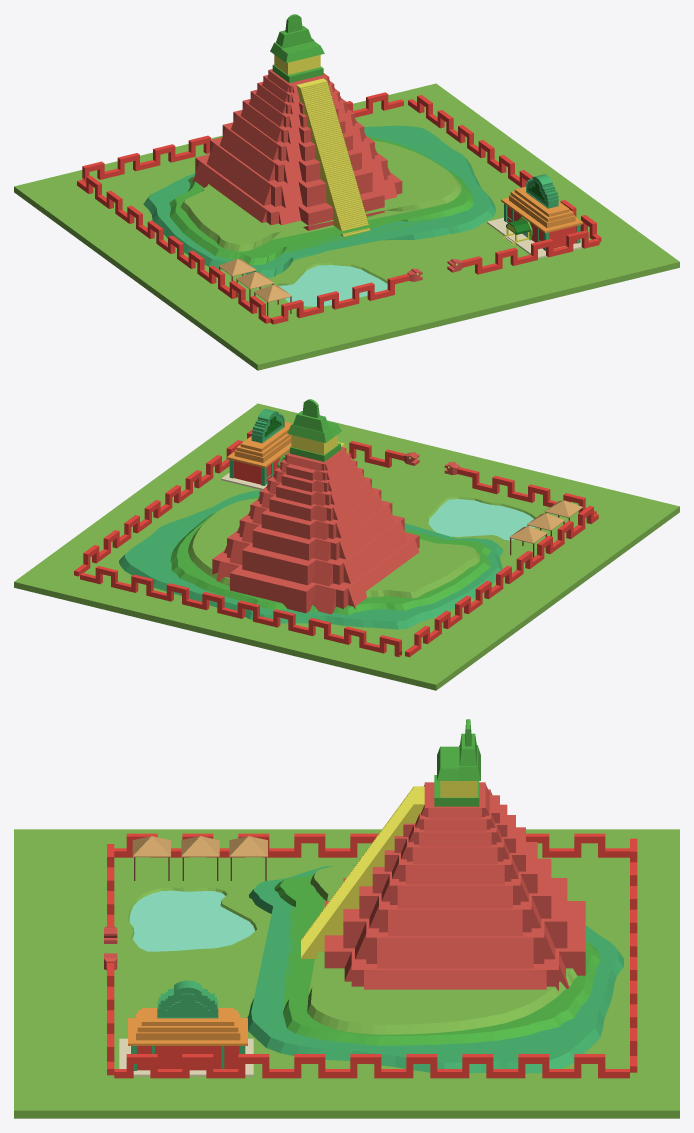
File: D10_Milestone.fbx
The picture shows the model from 3 angles, top to bottom: view 1: azimuth 30°, elevation 25°; view 2: azimuth 150°, elevation 25°; view 3: azimuth 270°, elevation 25°; orthographic projection. The views are drawn at different scales.
Parts seen in each view (by area): view 1: Plane.1016, Cube.525, GP_Layer, GP_Layer.002, Plane.1017, GP_Layer.001, Cube.530, Cube.526, Plane.1018, Plane.1752, Plane.1021, Plane.1020 (+4 smaller); view 2: Plane.1016, Cube.525, Cube.526, GP_Layer, GP_Layer.002, GP_Layer.001, Plane.1020, Cube.530, Plane.1018, Plane.1752, Plane.1021, Plane.1019 (+5 smaller); view 3: Plane.1016, Cube.525, GP_Layer, GP_Layer.002, GP_Layer.001, Cube.526, Cube.530, Plane.1021, Plane.1752, Plane.1017, Plane.1018, Plane.1020 (+7 smaller).
Part boxes in pixels (x1=…): Plane.1016: x1=14, y1=83, x2=679, y2=370; Cube.525: x1=192, y1=69, x2=402, y2=231; GP_Layer: x1=143, y1=125, x2=495, y2=277; GP_Layer.002: x1=180, y1=140, x2=461, y2=251; Plane.1017: x1=296, y1=78, x2=370, y2=236; GP_Layer.001: x1=169, y1=136, x2=474, y2=265; Cube.530: x1=487, y1=174, x2=583, y2=258; Cube.526: x1=297, y1=97, x2=384, y2=230; Plane.1018: x1=77, y1=175, x2=270, y2=323; Plane.1752: x1=278, y1=265, x2=387, y2=306; Plane.1021: x1=408, y1=95, x2=601, y2=242; Plane.1020: x1=82, y1=92, x2=403, y2=182; Plane.1016: x1=14, y1=403, x2=679, y2=690; Cube.525: x1=212, y1=446, x2=419, y2=614; Cube.526: x1=230, y1=464, x2=316, y2=613; GP_Layer: x1=119, y1=490, x2=503, y2=629; GP_Layer.002: x1=188, y1=498, x2=479, y2=598; GP_Layer.001: x1=170, y1=496, x2=491, y2=615; Plane.1020: x1=80, y1=566, x2=401, y2=657; Cube.530: x1=221, y1=409, x2=292, y2=489; Plane.1018: x1=405, y1=506, x2=598, y2=657; Plane.1752: x1=428, y1=499, x2=534, y2=540; Plane.1021: x1=74, y1=429, x2=252, y2=576; Plane.1019: x1=457, y1=467, x2=596, y2=513; Plane.1016: x1=14, y1=829, x2=679, y2=1118; Cube.525: x1=344, y1=782, x2=568, y2=990; GP_Layer: x1=247, y1=865, x2=623, y2=1073; GP_Layer.002: x1=307, y1=865, x2=577, y2=1034; GP_Layer.001: x1=274, y1=873, x2=600, y2=1045; Cube.526: x1=324, y1=795, x2=585, y2=975; Cube.530: x1=119, y1=980, x2=253, y2=1076; Plane.1021: x1=114, y1=1054, x2=629, y2=1078; Plane.1752: x1=129, y1=890, x2=254, y2=951; Plane.1017: x1=300, y1=786, x2=424, y2=958; Plane.1018: x1=114, y1=833, x2=629, y2=857; Plane.1020: x1=630, y1=838, x2=637, y2=1072.
Size of the model in its own units: 12400 by 5182 by 12400.
Materials: 1 (1 with a texture image).
